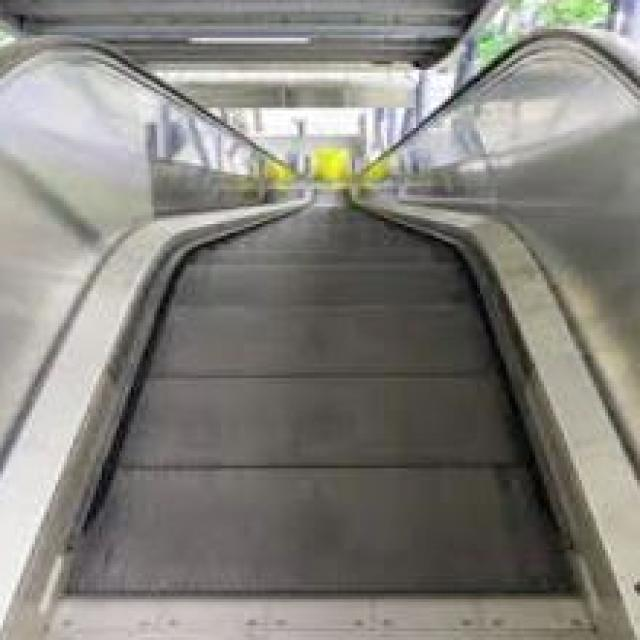downstair: (54, 400, 566, 624)
